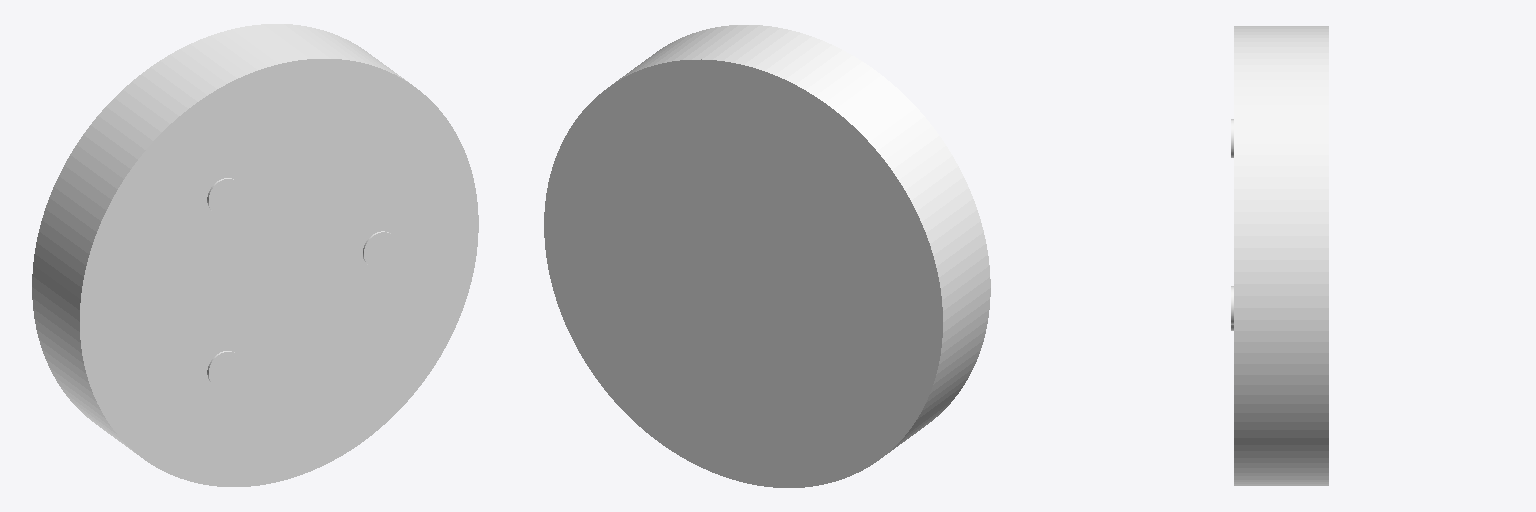
The model's file is banana.obj.
The picture shows the model from 3 angles: view 1: azimuth 30°, elevation 25°; view 2: azimuth 150°, elevation 25°; view 3: azimuth 270°, elevation 25°; orthographic projection.
Visible parts, largest first — view 1: Object.1, Object.2, Object.3, Object.4; view 2: Object.1; view 3: Object.1.
Boxes of the visible parts, box(x1,y1,x2,y2) form: Object.1: box(32, 24, 478, 486); Object.2: box(207, 178, 241, 214); Object.3: box(207, 351, 241, 387); Object.4: box(363, 231, 396, 267); Object.1: box(544, 25, 990, 487); Object.1: box(1234, 26, 1328, 485).
Bounding box in the file's own units: 40 × 40 × 8.48.